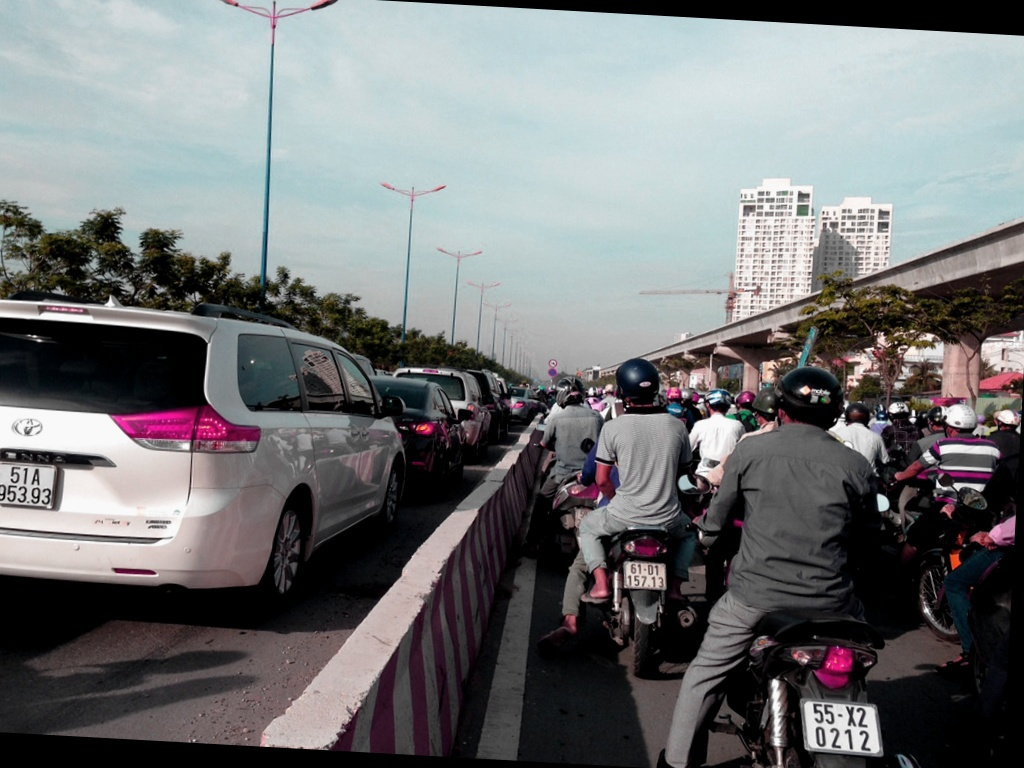Bien-so: (801, 701, 892, 755), (0, 462, 64, 512), (623, 560, 669, 597)
